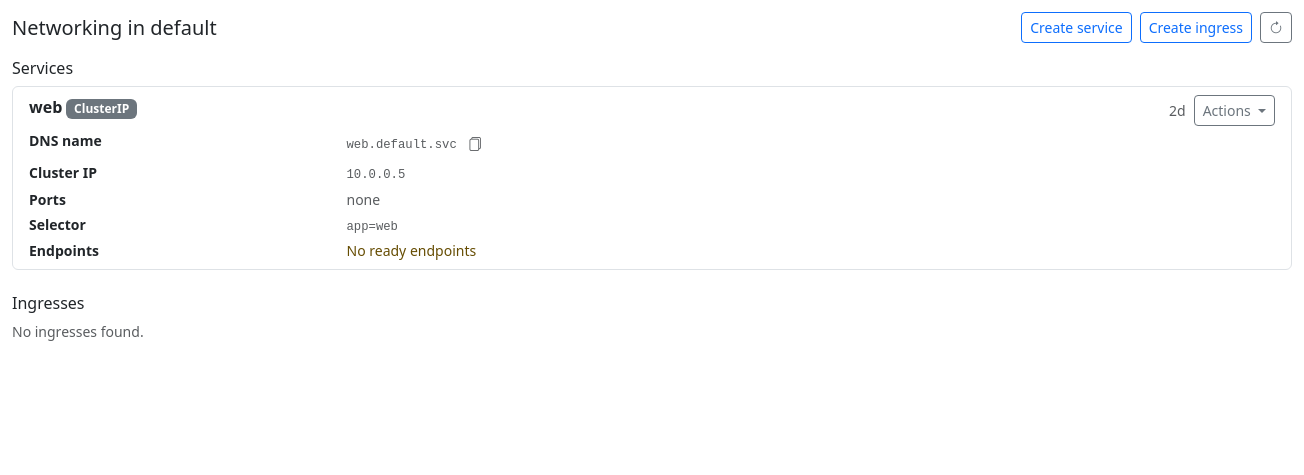
Test case: NetworkingView — create service › rejects creation when no port is given
This screenshot has width=1304, height=475.
Click the button "Create service" at (1076, 28), box [1021, 12, 1132, 43]
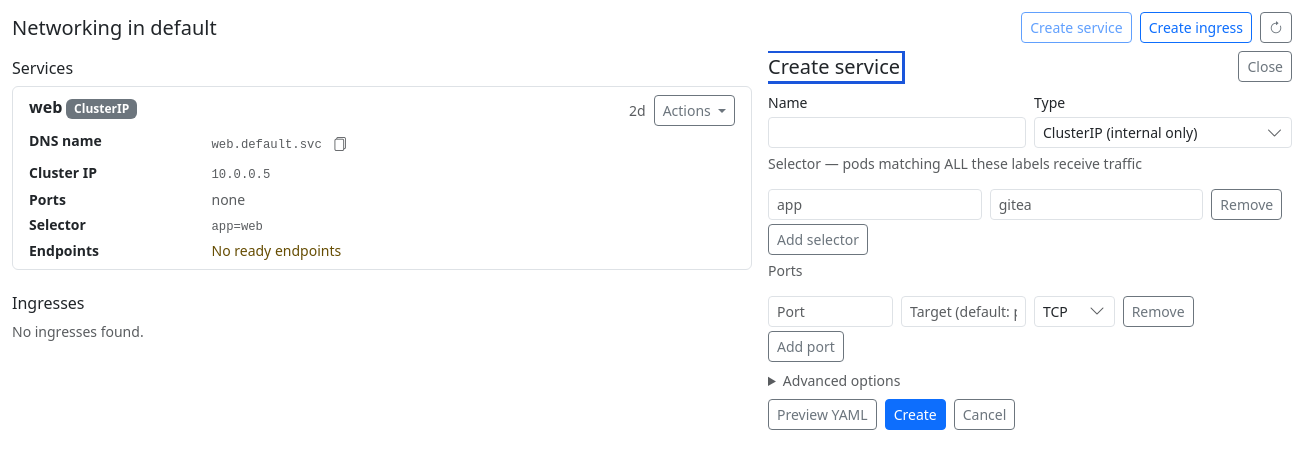
Type "web" into the field with id "svc-name" at (897, 132), box [768, 117, 1026, 148]
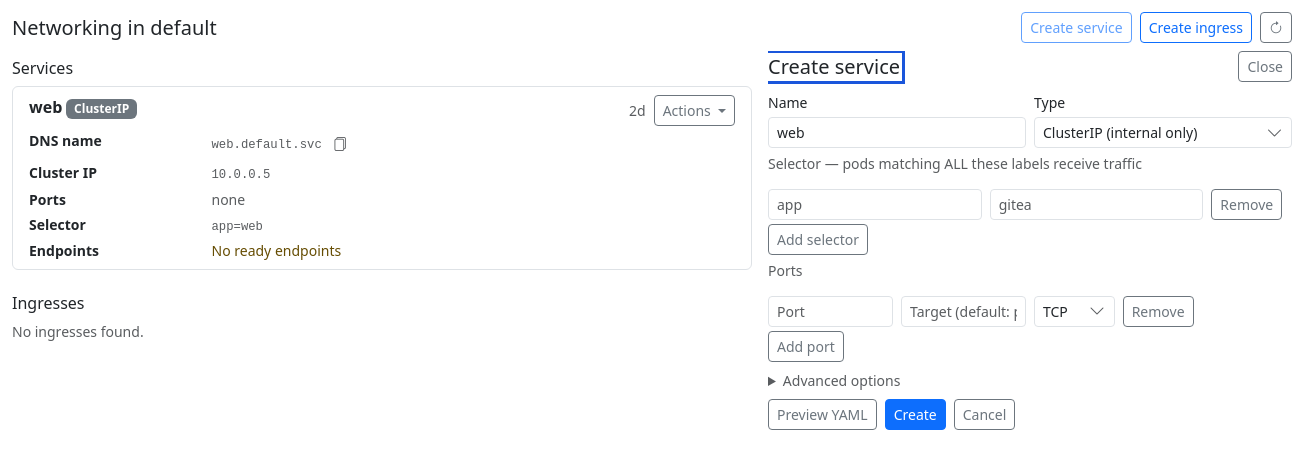
Submit the form, box [764, 82, 1292, 430]
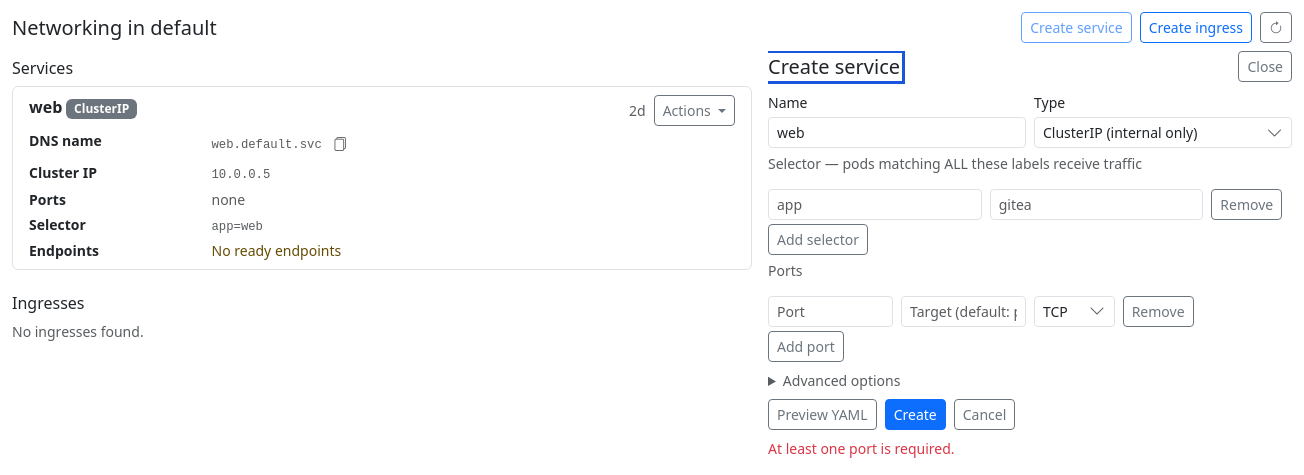
Expected: the text "At least one port" is shown, [768, 439, 955, 458]
